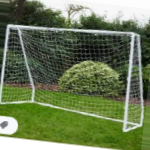goals: (1, 23, 146, 132)
